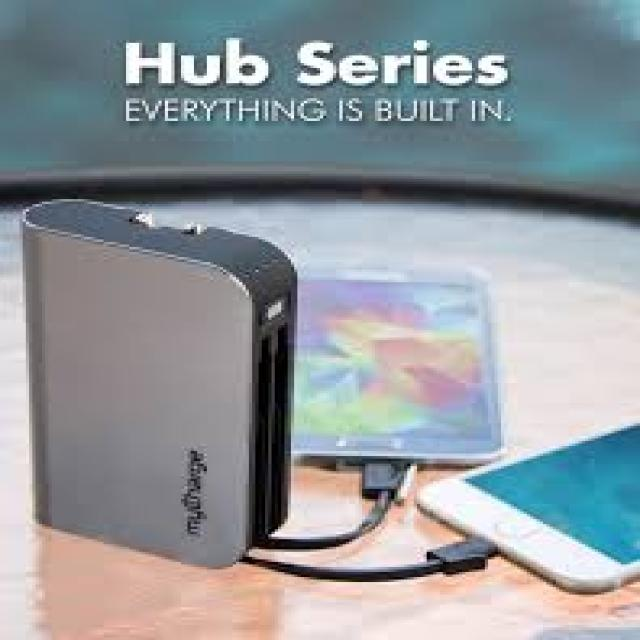power_bank: (23, 196, 303, 576)
